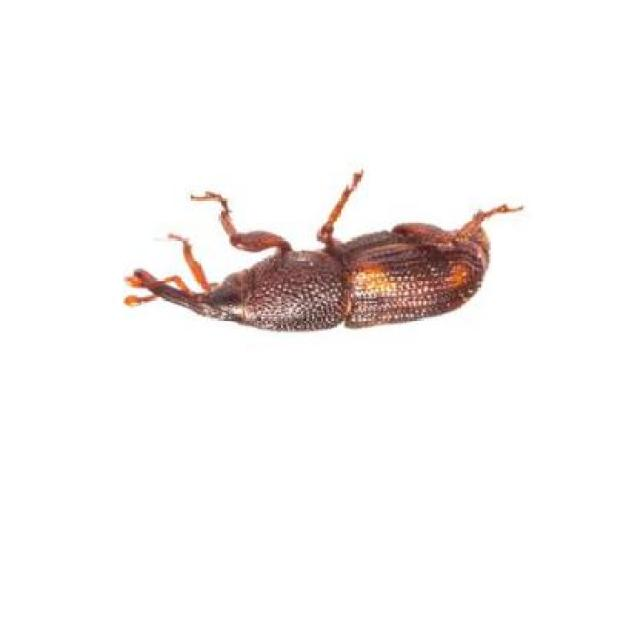rice-bug: (138, 178, 507, 340)
